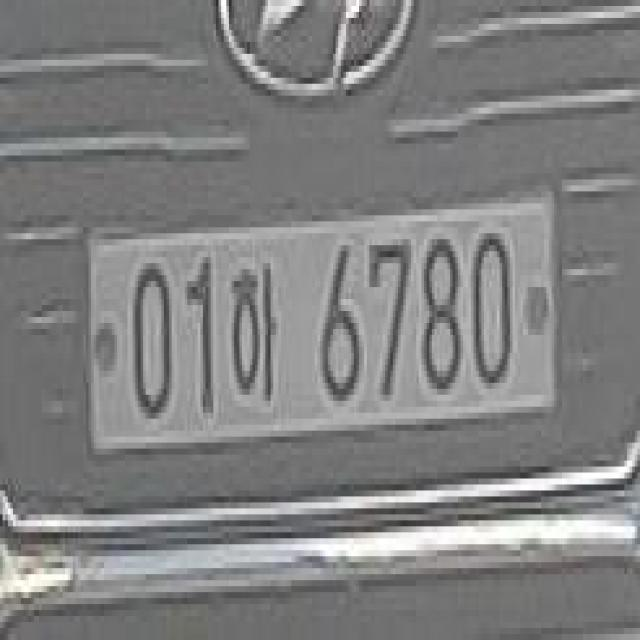illegal_plate: (83, 197, 561, 464)
